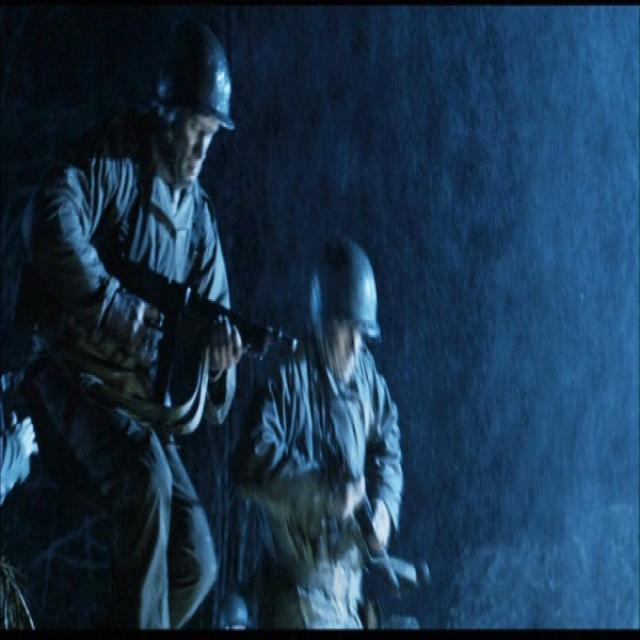rifle: (100, 238, 303, 424)
